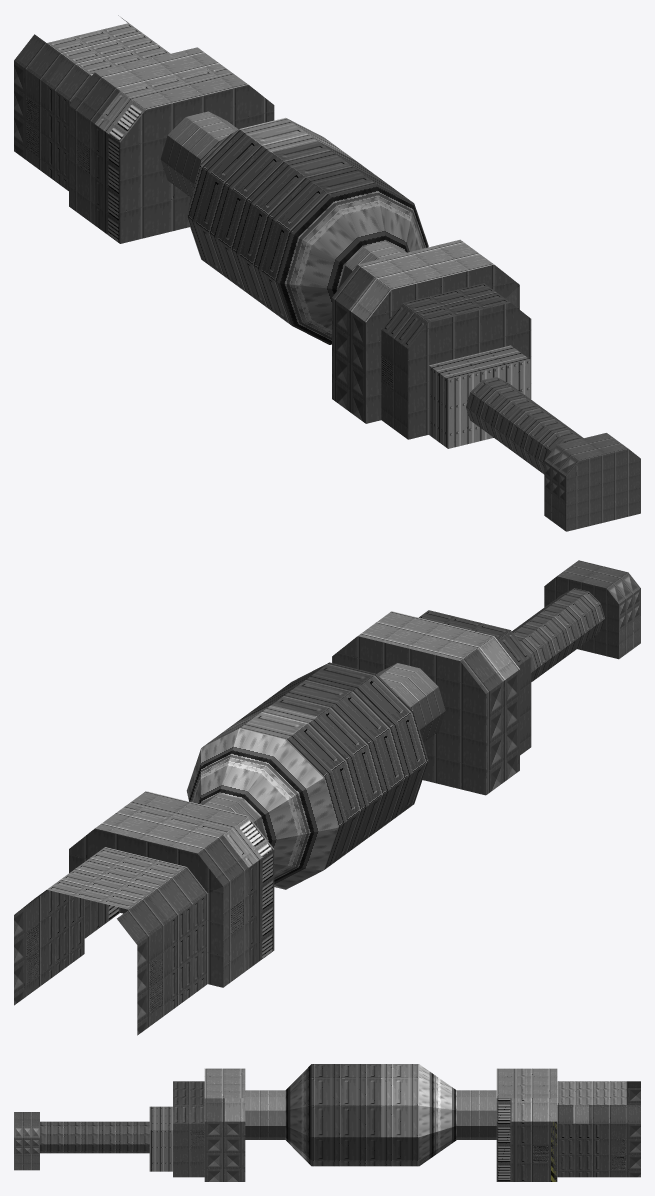
Rendered from primary_114.glb.
3 views of the same model, one above another, from view 1: azimuth 30°, elevation 25°; view 2: azimuth 150°, elevation 25°; view 3: azimuth 270°, elevation 25° (orthographic). The views are drawn at different scales.
Parts seen in each view (by area): view 1: Object; view 2: Object; view 3: Object.
Boxes of the visible parts, x1,y1,x2,y2 form: Object: [14, 15, 640, 531]; Object: [14, 560, 640, 1035]; Object: [14, 1064, 640, 1181].
Size of the model in its own units: 2.83 by 2.63 by 16.8.
100 materials, 100 textured.
